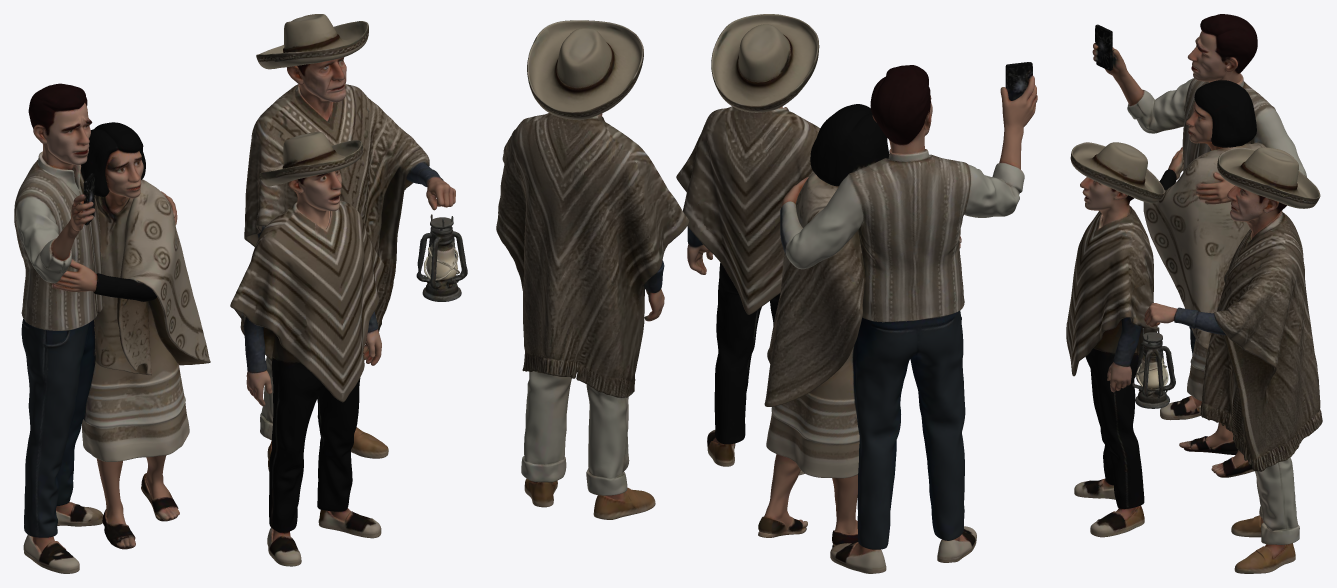
File: 28-las-luces-danzantes-del-barranco.-optimized.glb
3 views of the same model, side by side, from view 1: azimuth 30°, elevation 25°; view 2: azimuth 150°, elevation 25°; view 3: azimuth 270°, elevation 25° (orthographic). The views are drawn at different scales.
Parts seen in each view (by area): view 1: tripo_node_0bc52a81-61e4-403e-9e08-f4183e866e80; view 2: tripo_node_0bc52a81-61e4-403e-9e08-f4183e866e80; view 3: tripo_node_0bc52a81-61e4-403e-9e08-f4183e866e80.
Part boxes in pixels (box(x1,y1,x2,y2)): tripo_node_0bc52a81-61e4-403e-9e08-f4183e866e80: box(14, 14, 467, 573); tripo_node_0bc52a81-61e4-403e-9e08-f4183e866e80: box(496, 14, 1037, 573); tripo_node_0bc52a81-61e4-403e-9e08-f4183e866e80: box(1066, 14, 1322, 573).
Bounding box in the file's own units: 1 × 0.9995 × 0.5632.
Materials: 1 (1 with a texture image).
